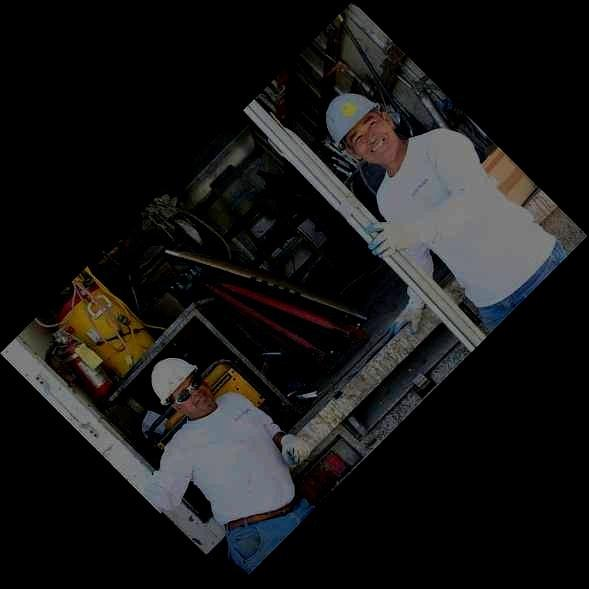helmet: (325, 92, 400, 166), (150, 358, 214, 418)
